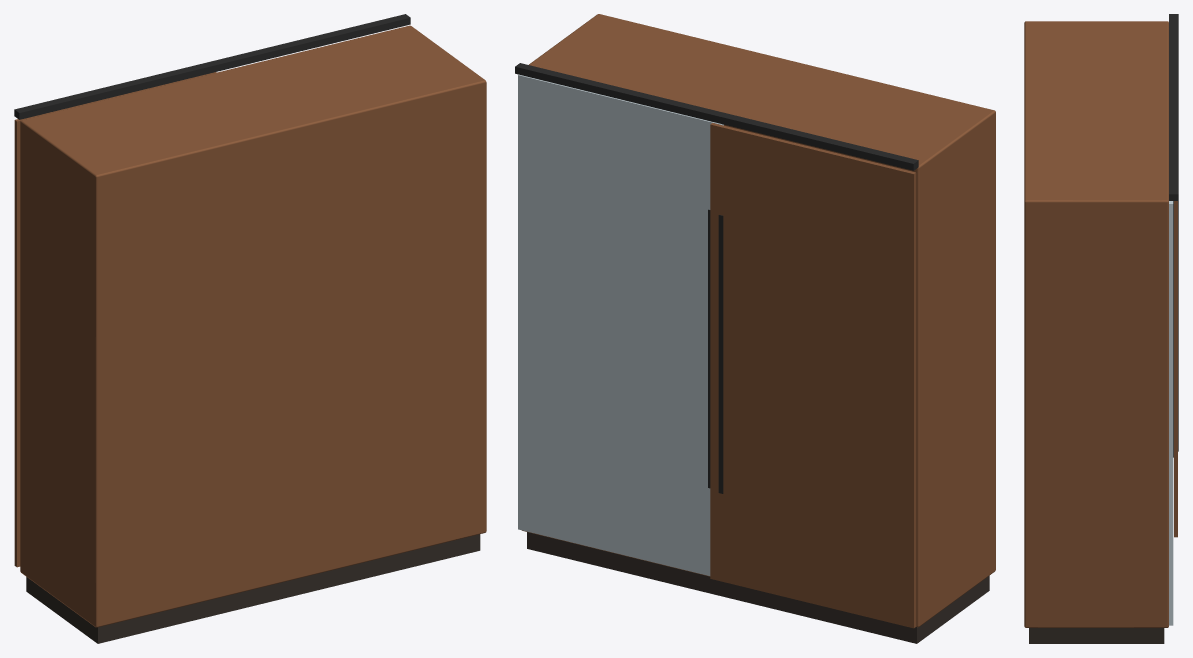
3 renders of one model, left to right at view 1: azimuth 30°, elevation 25°; view 2: azimuth 150°, elevation 25°; view 3: azimuth 270°, elevation 25°, orthographic. The views are drawn at different scales.
Visible parts, largest first — view 1: carcass, plinth, track, panel-front; view 2: panel-front, panel-back, carcass, plinth, track, strip-front, strip-back; view 3: carcass, plinth, panel-back, track, panel-front, strip-back, strip-front.
Part boxes in pixels (left/top/right/bottom): carcass: left=20, top=25, right=486, bottom=627; plinth: left=26, top=534, right=480, bottom=643; track: left=14, top=14, right=410, bottom=119; panel-front: left=14, top=72, right=216, bottom=567; panel-front: left=710, top=123, right=916, bottom=628; panel-back: left=518, top=74, right=723, bottom=575; carcass: left=522, top=14, right=995, bottom=627; plinth: left=527, top=532, right=989, bottom=643; track: left=515, top=63, right=918, bottom=170; strip-front: left=718, top=215, right=723, bottom=493; strip-back: left=708, top=209, right=710, bottom=488; carcass: left=1024, top=21, right=1168, bottom=627; plinth: left=1029, top=628, right=1164, bottom=643; panel-back: left=1169, top=201, right=1173, bottom=625; track: left=1169, top=14, right=1178, bottom=200; panel-front: left=1174, top=201, right=1177, bottom=537; strip-back: left=1173, top=201, right=1173, bottom=457; strip-front: left=1178, top=201, right=1178, bottom=451.
Size of the model in its own units: 1.8 by 2.1 by 0.65.
